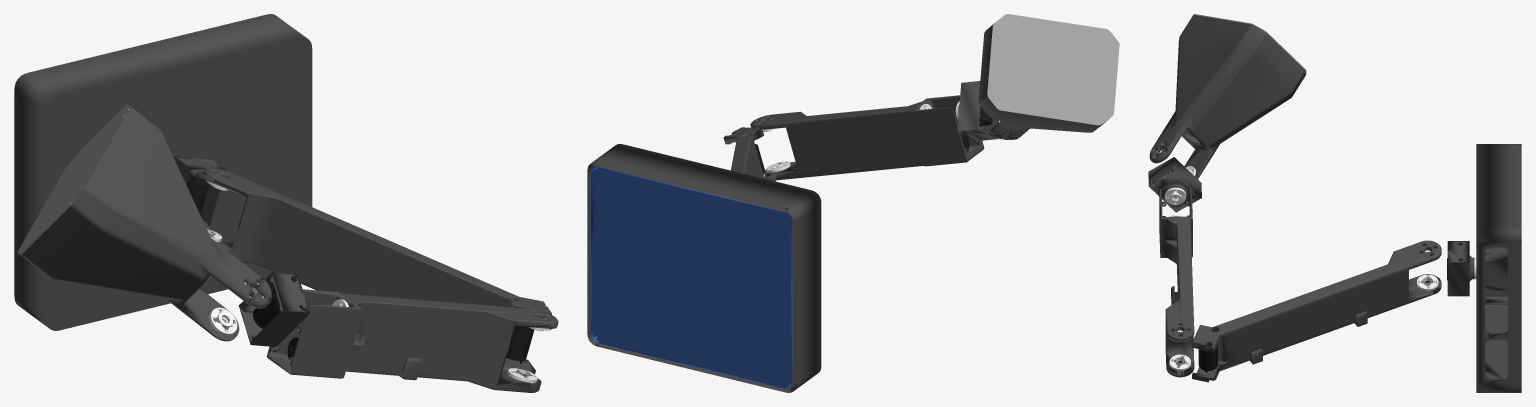
File: lamp.glb
3 views of the same model, side by side, from view 1: azimuth 30°, elevation 25°; view 2: azimuth 150°, elevation 25°; view 3: azimuth 270°, elevation 25° (orthographic). The views are drawn at different scales.
Parts seen in each view (by area): view 1: scs215_v5__lamp_base__37, diffuser__lamphead__95, lamparm__elbow_wrist__lamparm__elbow_wrist__57, lamparm__base_elbow__lamparm__base_elbow__1, diffuser__diffuser__93, lamparm__wrist_head_2__lamparm__wrist_head__75, lamparm__wrist_head__lamparm__wrist_head__19, lamparm__base_elbow__motor_1723_3__17, lamparm__wrist_head_2__金属舵盘_驱动__v2__77, lamparm__wrist_head_2__motor_1723_3__91, lamparm__wrist_head__motor_1723_3__35; view 2: scs215_v5__lamp_base_cover__39, scs215_v5__lamp_base__37, diffuser__diffuser__93, lamparm__elbow_wrist__lamparm__elbow_wrist__57, diffuser__lamphead__95, lamparm__wrist_head_2__lamparm__wrist_head__75, lamparm__base_elbow__lamparm__base_elbow__1; view 3: diffuser__lamphead__95, scs215_v5__lamp_base__37, lamparm__base_elbow__lamparm__base_elbow__1, lamparm__elbow_wrist__lamparm__elbow_wrist__57, lamparm__wrist_head_2__lamparm__wrist_head__75, lamparm__wrist_head__lamparm__wrist_head__19, lamparm__base_elbow__motor_1723_3__17, lamparm__elbow_wrist__金属舵盘_驱动__v2__59.
Part boxes in pixels (box(x1,y1,x2,y2)): scs215_v5__lamp_base__37: box(14, 14, 312, 330); diffuser__lamphead__95: box(19, 106, 272, 341); lamparm__elbow_wrist__lamparm__elbow_wrist__57: box(266, 289, 558, 392); lamparm__base_elbow__lamparm__base_elbow__1: box(203, 168, 551, 374); diffuser__diffuser__93: box(17, 104, 130, 254); lamparm__wrist_head_2__lamparm__wrist_head__75: box(238, 272, 309, 346); lamparm__wrist_head__lamparm__wrist_head__19: box(173, 156, 226, 229); lamparm__base_elbow__motor_1723_3__17: box(506, 326, 534, 363); lamparm__wrist_head_2__金属舵盘_驱动__v2__77: box(209, 307, 237, 335); lamparm__wrist_head_2__motor_1723_3__91: box(253, 289, 280, 328); lamparm__wrist_head__motor_1723_3__35: box(187, 173, 208, 214); scs215_v5__lamp_base_cover__39: box(590, 166, 792, 388); scs215_v5__lamp_base__37: box(587, 144, 821, 392); diffuser__diffuser__93: box(987, 14, 1119, 125); lamparm__elbow_wrist__lamparm__elbow_wrist__57: box(750, 95, 984, 180); diffuser__lamphead__95: box(978, 23, 1109, 139); lamparm__wrist_head_2__lamparm__wrist_head__75: box(957, 81, 998, 140); lamparm__base_elbow__lamparm__base_elbow__1: box(723, 127, 776, 181); diffuser__lamphead__95: box(1149, 15, 1305, 179); scs215_v5__lamp_base__37: box(1476, 144, 1521, 392); lamparm__base_elbow__lamparm__base_elbow__1: box(1192, 240, 1441, 382); lamparm__elbow_wrist__lamparm__elbow_wrist__57: box(1159, 188, 1194, 377); lamparm__wrist_head_2__lamparm__wrist_head__75: box(1148, 157, 1201, 212); lamparm__wrist_head__lamparm__wrist_head__19: box(1447, 241, 1474, 296); lamparm__base_elbow__motor_1723_3__17: box(1198, 344, 1217, 372); lamparm__elbow_wrist__金属舵盘_驱动__v2__59: box(1164, 187, 1186, 205).
Size of the model in its own units: 0.3651 by 0.2484 by 0.3295.
